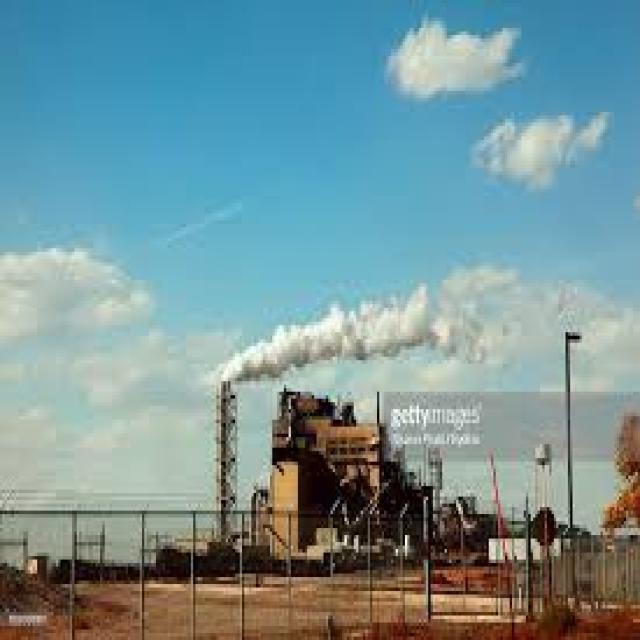Smoke: (219, 257, 522, 384)
